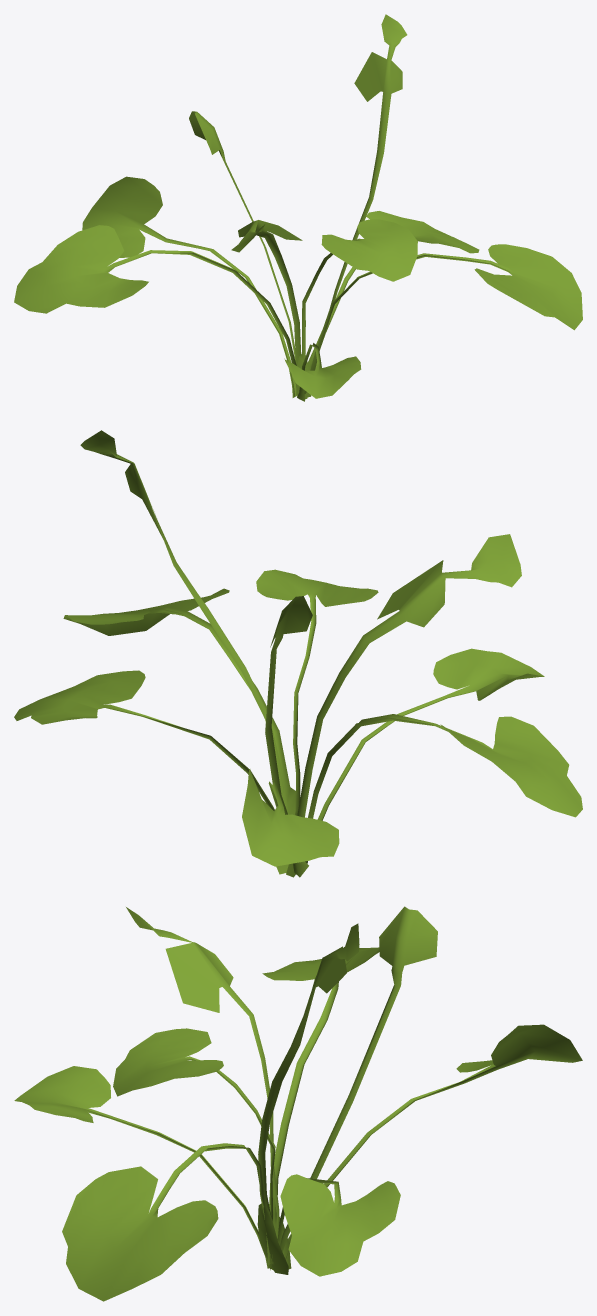
File: groundcover_plant_06.fbx
3 views of the same model, one above another, from view 1: azimuth 30°, elevation 25°; view 2: azimuth 150°, elevation 25°; view 3: azimuth 270°, elevation 25° (orthographic). The views are drawn at different scales.
Parts seen in each view (by area): view 1: groundcover_plant_06_LOD0; view 2: groundcover_plant_06_LOD0; view 3: groundcover_plant_06_LOD0.
Boxes of the visible parts, x1,y1,x2,y2 form: groundcover_plant_06_LOD0: (14, 14, 582, 401); groundcover_plant_06_LOD0: (14, 430, 582, 877); groundcover_plant_06_LOD0: (14, 906, 582, 1301).
Size of what is drawn, in the model's own units: 0.2757 by 0.1859 by 0.2282.
